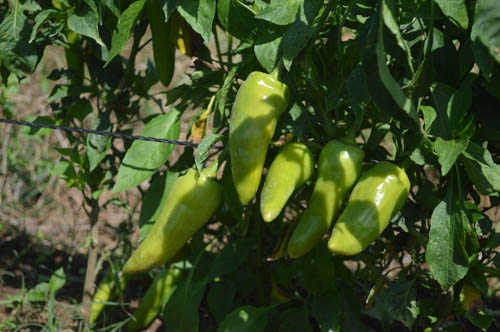ChiliPepper: (123, 169, 222, 279), (326, 165, 416, 276), (289, 141, 363, 263), (230, 72, 290, 211), (256, 141, 314, 230), (128, 268, 188, 332)
